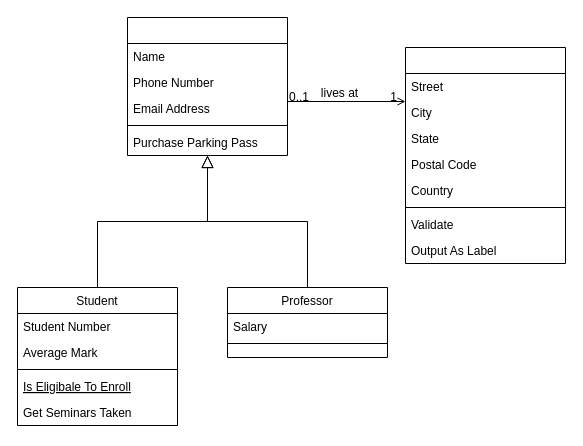
Image size: 583x446. Some labels were removed from this diagram. The box of each missing label's shape, as (x1, y1, x2, y2) in pixels:
Address: (404, 46, 566, 264)
Category: (126, 16, 288, 156)
